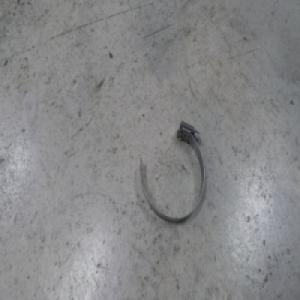AdjustableClamp: (138, 120, 207, 225)
